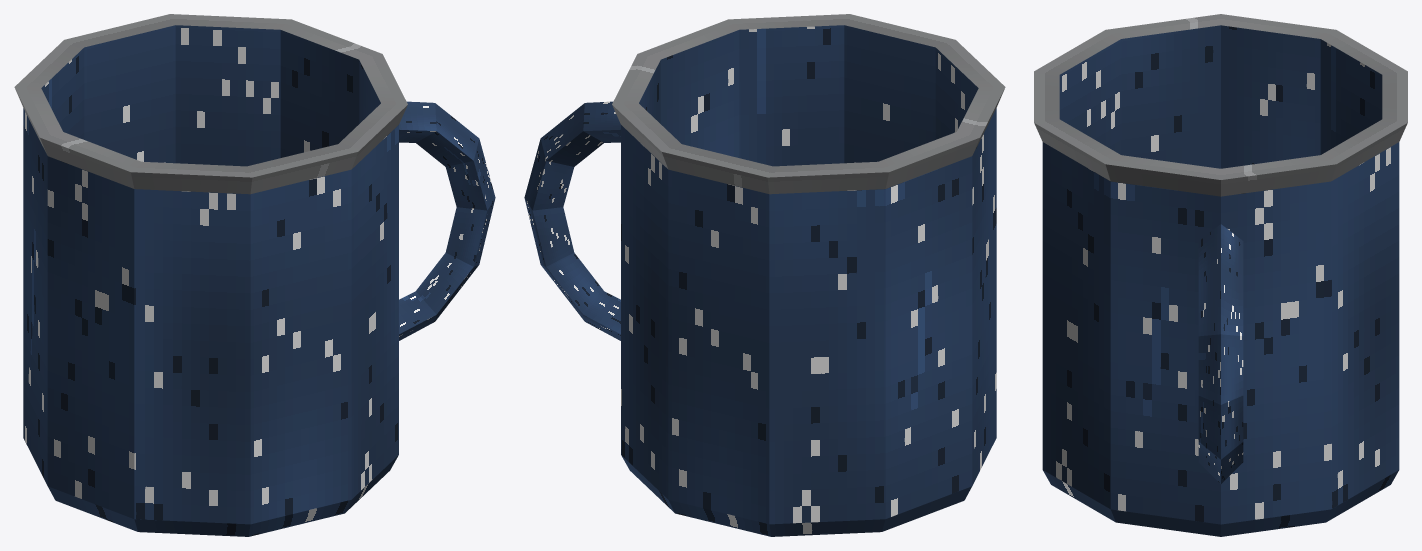
Rendered from CAMP_Mug_01.fbx.
3 views of the same model, side by side, from view 1: azimuth 30°, elevation 25°; view 2: azimuth 150°, elevation 25°; view 3: azimuth 270°, elevation 25° (orthographic).
Parts seen in each view (by area): view 1: CAMP_Mug_01; view 2: CAMP_Mug_01; view 3: CAMP_Mug_01.
Boxes of the visible parts, x1=… form: CAMP_Mug_01: x1=14, y1=14, x2=495, y2=536; CAMP_Mug_01: x1=524, y1=14, x2=1005, y2=536; CAMP_Mug_01: x1=1034, y1=14, x2=1407, y2=536.
Size of the model in its own units: 0.117 by 0.09 by 0.0837.
Materials: 2 (2 with a texture image).
